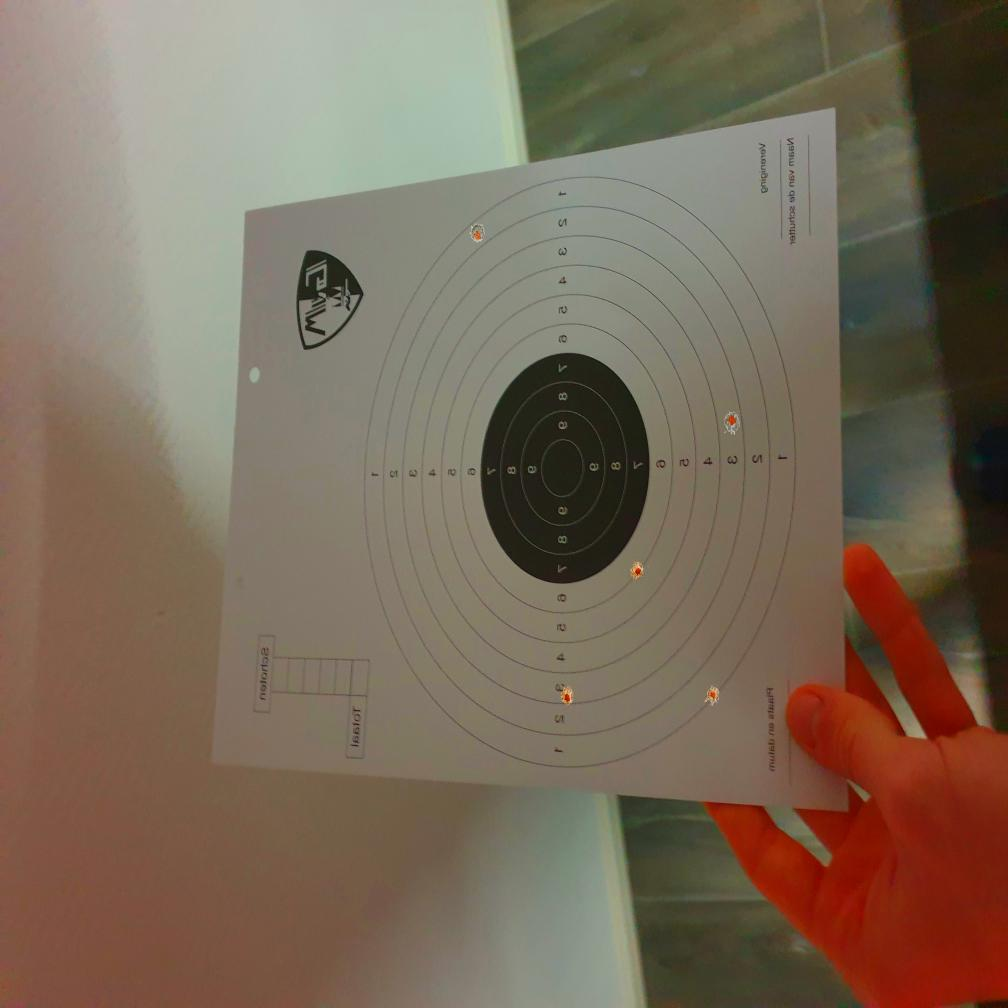1: (705, 685, 720, 706), (470, 224, 484, 243)
3: (724, 412, 740, 436), (561, 684, 573, 706)
6: (630, 561, 644, 581)
Target: (363, 176, 796, 772)
black_contour: (480, 353, 650, 584)
